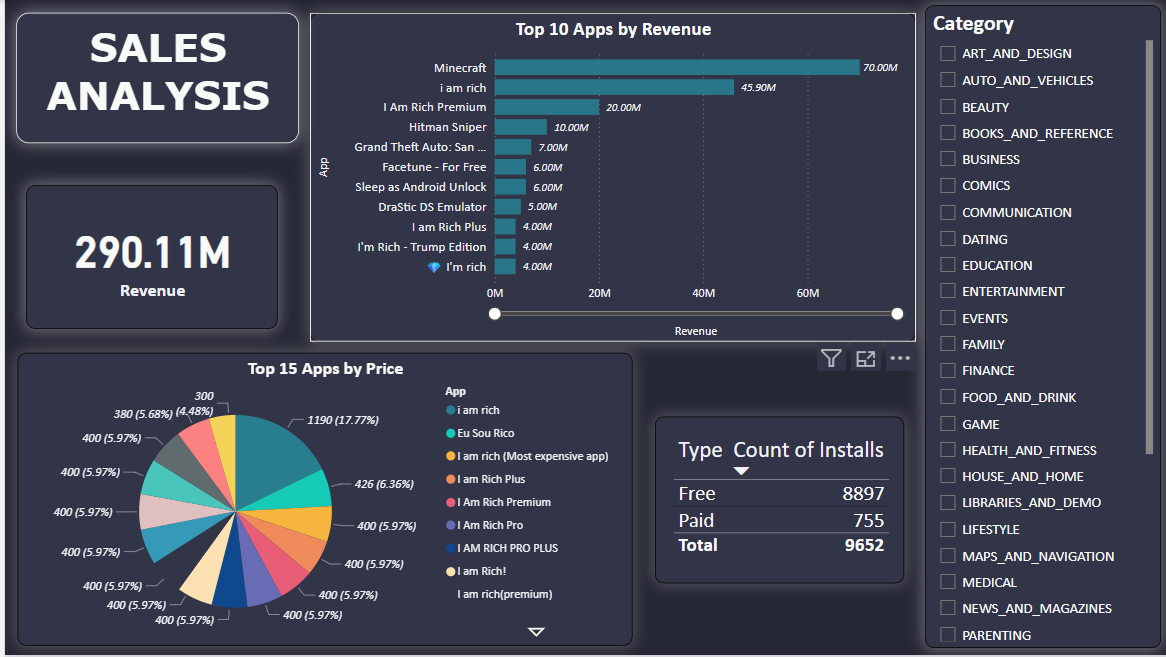

What the dashboard file says about the page in this screenshot:
{"tool":"powerbi","page":{"name":"Sales Analysis","canvas":[1280,720],"ordinal":0},"visuals":[{"type":"slicer","title":"Category","fields":{"Values":["googleplaystore.Category"]},"box":[1010,6.9,259.3,705.3],"z":0},{"type":"card","fields":{"Values":["Sum(googleplaystore.Revenue)"]},"box":[23.3,204.5,275.8,157.8],"z":1000},{"type":"tableEx","title":"Type of Installs","fields":{"Values":["googleplaystore.Type","CountNonNull(googleplaystore.Installs)"]},"box":[713.3,458.3,273.3,183.3],"z":2000},{"type":"clusteredBarChart","title":"Top 10 Apps by Revenue","fields":{"Category":["googleplaystore.App"],"Y":["Sum(googleplaystore.Revenue)"]},"box":[335,15,665,361.7],"z":3000},{"type":"pieChart","title":"Top 15 Apps by Price","fields":{"Category":["googleplaystore.App"],"Y":["Sum(googleplaystore.Price)"]},"box":[13.3,388.3,675,321.7],"z":4000},{"type":"textbox","box":[12.9,15.7,310,142.9],"z":5000}]}

Visuals, with their boxes in screenshot pixels (x1, y1, x2, y2), scaled from the page's 1280x720 canvas onto the 1166x657 screenshot:
"Category" slicer: <region>920, 6, 1156, 650</region>
card - Sum(googleplaystore.Revenue): <region>21, 187, 272, 331</region>
"Type of Installs" tableEx: <region>650, 418, 899, 585</region>
"Top 10 Apps by Revenue" clusteredBarChart: <region>305, 14, 911, 344</region>
"Top 15 Apps by Price" pieChart: <region>12, 354, 627, 648</region>
textbox: <region>12, 14, 294, 145</region>
